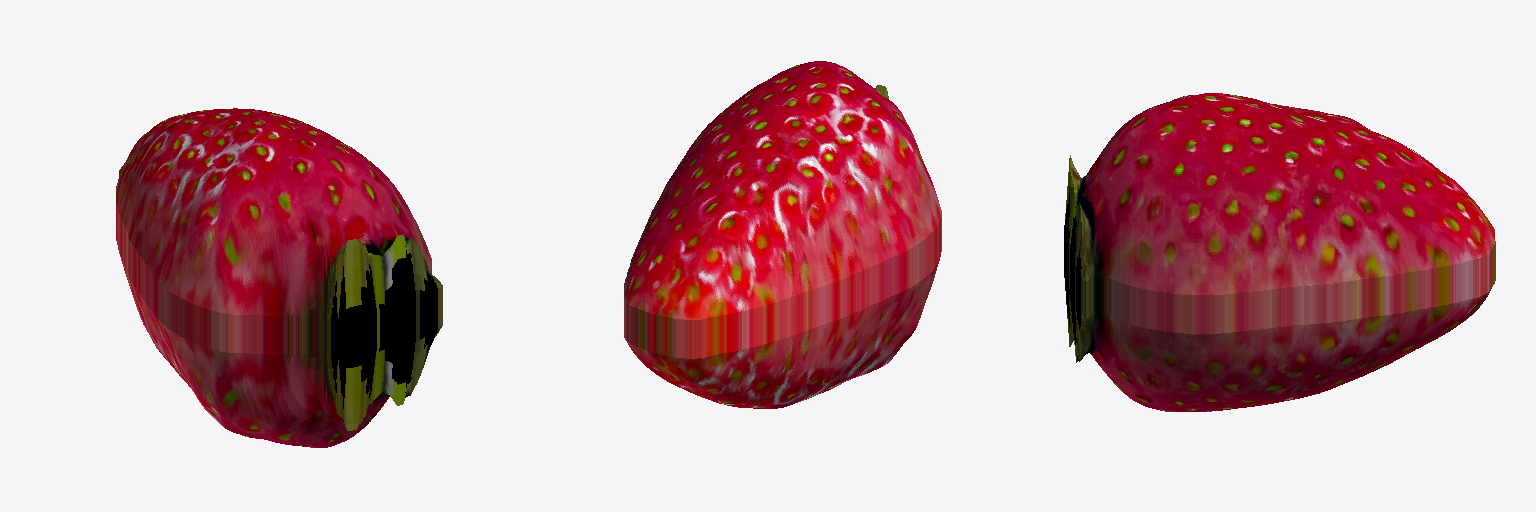
3 views of the same model, side by side, from view 1: azimuth 30°, elevation 25°; view 2: azimuth 150°, elevation 25°; view 3: azimuth 270°, elevation 25° (orthographic).
Parts seen in each view (by area): view 1: Grid; view 2: Grid; view 3: Grid.
Part boxes in pixels (bbox=[...]): Grid: bbox=[116, 108, 442, 447]; Grid: bbox=[624, 61, 941, 408]; Grid: bbox=[1064, 93, 1495, 411].
Bounding box in the file's own units: 1.31 × 1.55 × 2.03.
1 materials, 1 textured.